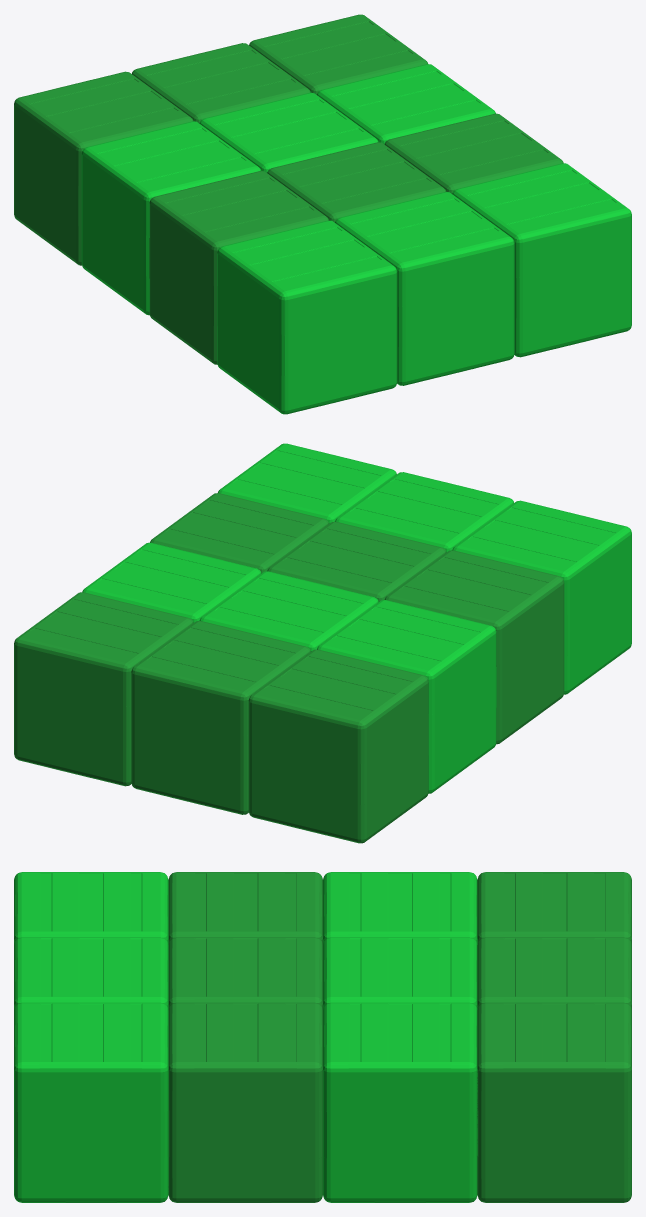
The picture shows the model from 3 angles, top to bottom: view 1: azimuth 30°, elevation 25°; view 2: azimuth 150°, elevation 25°; view 3: azimuth 270°, elevation 25°; orthographic projection. The views are drawn at different scales.
Parts seen in each view (by area): view 1: Cube.003, Cube.004, Cube.002, Cube.005; view 2: Cube.005, Cube.002, Cube.004, Cube.003; view 3: Cube.002, Cube.003, Cube.004, Cube.005.
Part boxes in pixels (left/top/right/bottom): Cube.003: left=217, top=163, right=631, bottom=414; Cube.004: left=149, top=113, right=563, bottom=364; Cube.002: left=81, top=64, right=495, bottom=315; Cube.005: left=14, top=14, right=427, bottom=265; Cube.005: left=14, top=592, right=428, bottom=843; Cube.002: left=82, top=542, right=496, bottom=793; Cube.004: left=150, top=493, right=564, bottom=744; Cube.003: left=218, top=443, right=631, bottom=694; Cube.002: left=323, top=872, right=477, bottom=1202; Cube.003: left=14, top=872, right=168, bottom=1202; Cube.004: left=168, top=872, right=322, bottom=1202; Cube.005: left=477, top=872, right=631, bottom=1202.
Bounding box in the file's own units: 1200 × 400 × 1600.
